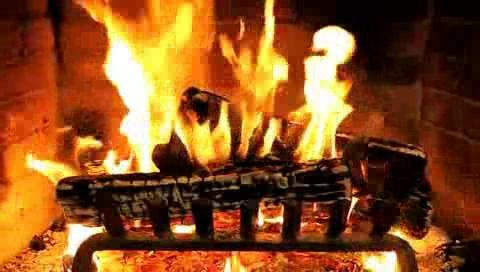fire: (80, 12, 356, 154)
